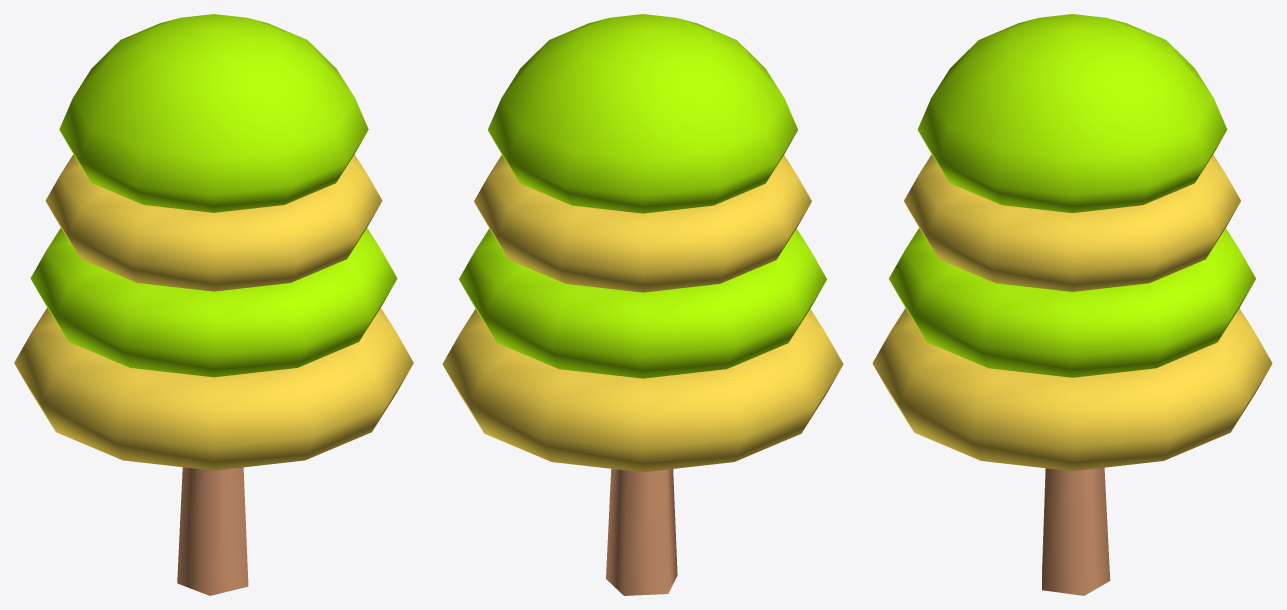
3 renders of one model, left to right at view 1: azimuth 30°, elevation 25°; view 2: azimuth 150°, elevation 25°; view 3: azimuth 270°, elevation 25°, orthographic.
Visible parts, largest first — view 1: pCylinder9, pCylinder6, pCylinder7, pCylinder8, polySurface160; view 2: pCylinder9, pCylinder6, pCylinder7, pCylinder8, polySurface160; view 3: pCylinder9, pCylinder6, pCylinder7, pCylinder8, polySurface160.
Boxes of the visible parts, x1=… form: pCylinder9: x1=59, y1=14, x2=368, y2=212; pCylinder6: x1=14, y1=308, x2=413, y2=470; pCylinder7: x1=30, y1=228, x2=397, y2=377; pCylinder8: x1=45, y1=154, x2=382, y2=291; polySurface160: x1=177, y1=467, x2=248, y2=595; pCylinder9: x1=488, y1=14, x2=797, y2=213; pCylinder6: x1=442, y1=309, x2=843, y2=472; pCylinder7: x1=459, y1=228, x2=826, y2=378; pCylinder8: x1=474, y1=155, x2=811, y2=292; polySurface160: x1=606, y1=469, x2=677, y2=595; pCylinder9: x1=917, y1=14, x2=1227, y2=212; pCylinder6: x1=872, y1=308, x2=1272, y2=471; pCylinder7: x1=889, y1=228, x2=1255, y2=377; pCylinder8: x1=904, y1=154, x2=1240, y2=291; polySurface160: x1=1042, y1=467, x2=1110, y2=595.
Size of the model in its own units: 21.58 by 32.76 by 21.58.
